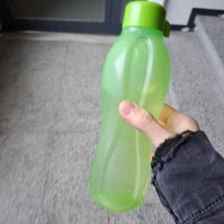bottle: (86, 0, 174, 216)
